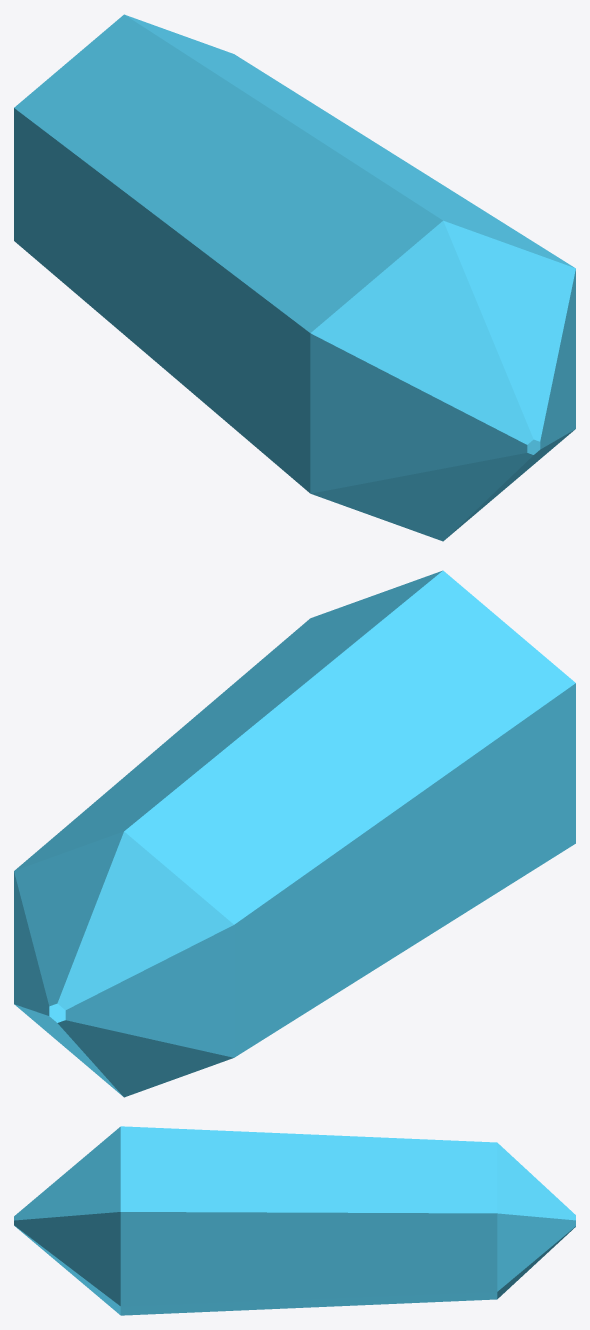
Rendered from SM_AstraCrystal.obj.
3 renders of one model, top to bottom at view 1: azimuth 30°, elevation 25°; view 2: azimuth 150°, elevation 25°; view 3: azimuth 270°, elevation 25°, orthographic. The views are drawn at different scales.
Parts seen in each view (by area): view 1: SM_AstraCrystal; view 2: SM_AstraCrystal; view 3: SM_AstraCrystal.
Boxes of the visible parts, box(x1,y1,x2,y2) form: SM_AstraCrystal: box(14, 14, 575, 541); SM_AstraCrystal: box(14, 570, 575, 1097); SM_AstraCrystal: box(14, 1126, 575, 1315).
Bounding box in the file's own units: 48.29 × 55.76 × 150.
